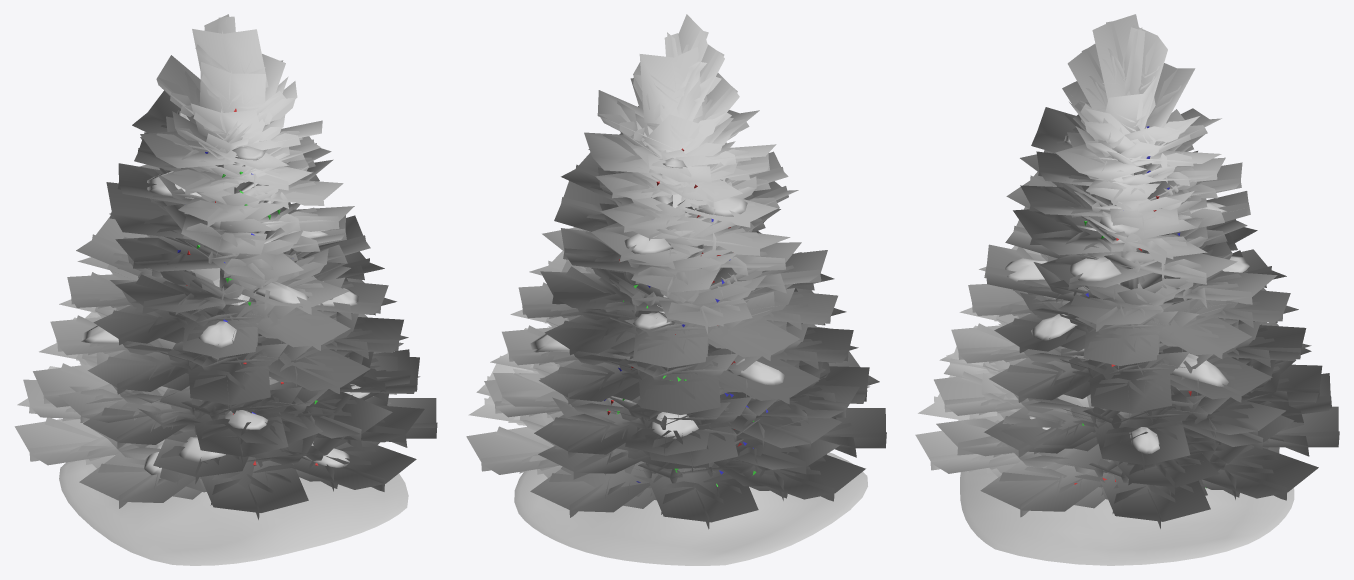
The model's file is xmas tree_02.fbx.
3 renders of one model, left to right at view 1: azimuth 30°, elevation 25°; view 2: azimuth 150°, elevation 25°; view 3: azimuth 270°, elevation 25°, orthographic.
Parts seen in each view (by area): view 1: xmas_tree_02_LOD0, xmas_tree_02_snow; view 2: xmas_tree_02_LOD0, xmas_tree_02_snow; view 3: xmas_tree_02_LOD0, xmas_tree_02_snow.
Boxes of the visible parts, <box> form: xmas_tree_02_LOD0: <box>14,14,437,519</box>; xmas_tree_02_snow: <box>59,110,408,565</box>; xmas_tree_02_LOD0: <box>466,14,886,529</box>; xmas_tree_02_snow: <box>514,158,867,565</box>; xmas_tree_02_LOD0: <box>915,14,1339,528</box>; xmas_tree_02_snow: <box>960,130,1294,565</box>.
Size of what is drawn, in the model's own units: 332 by 401 by 328.
